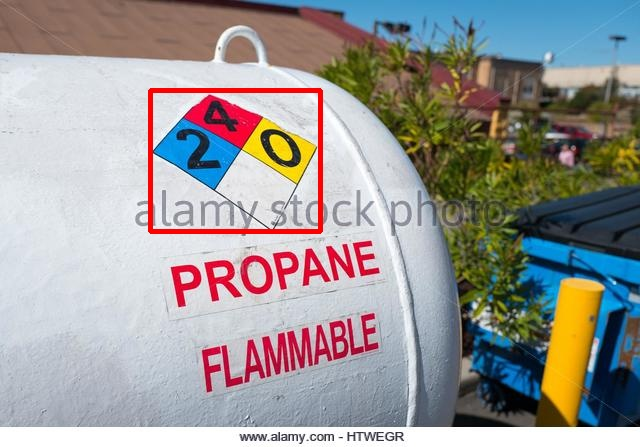nfpa: (150, 90, 320, 231)
